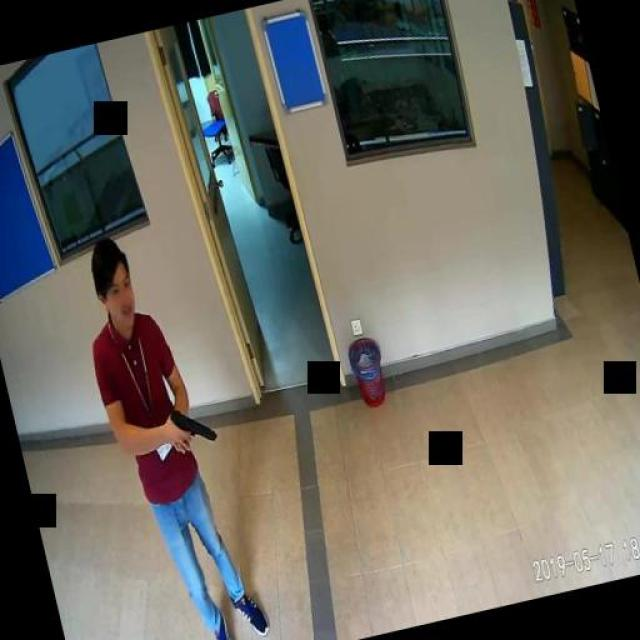gun: (166, 402, 216, 452)
